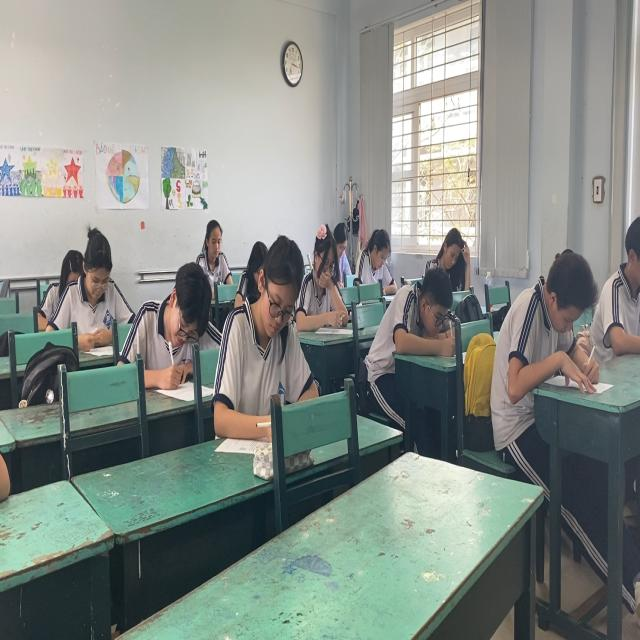not_cheating: (226, 237, 302, 427), (506, 244, 593, 385), (138, 258, 212, 388), (378, 261, 457, 361), (61, 222, 121, 344), (296, 226, 339, 333), (195, 216, 230, 288), (354, 226, 388, 288), (434, 229, 467, 289)
